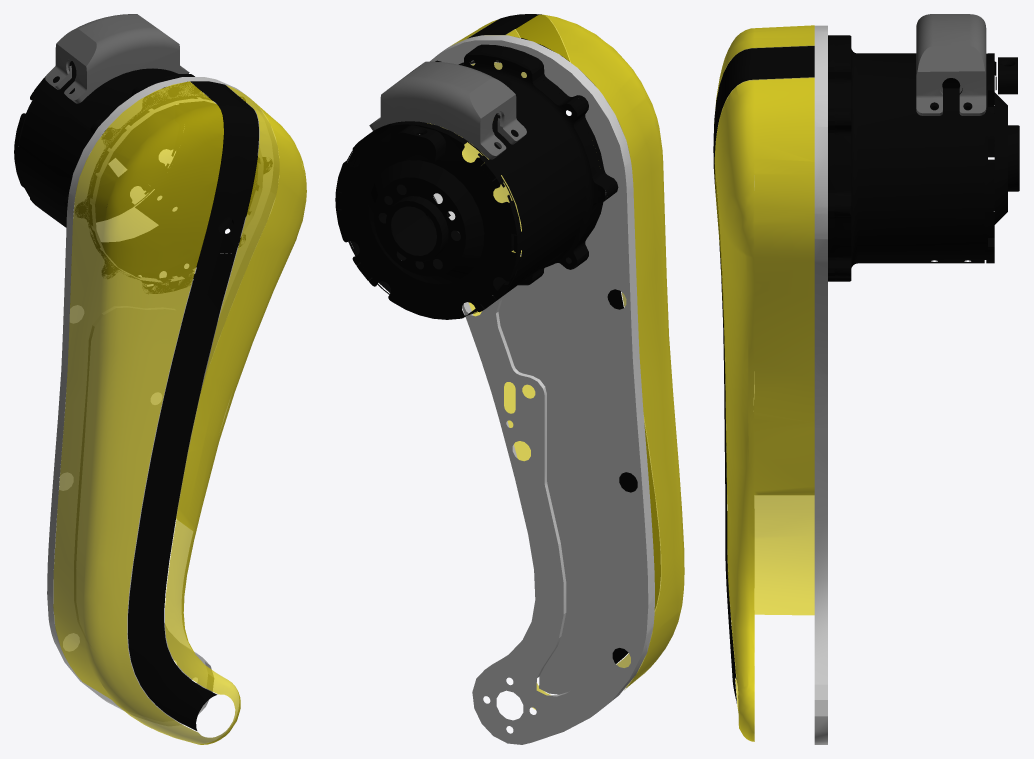
File: R_THIGH.dae
3 renders of one model, left to right at view 1: azimuth 30°, elevation 25°; view 2: azimuth 150°, elevation 25°; view 3: azimuth 270°, elevation 25°, orthographic. The views are drawn at different scales.
Visible parts, largest first — view 1: FR_THIGH_-_____________-1 (×12); view 2: FR_THIGH_-_____________-1 (×9); view 3: FR_THIGH_-_____________-1 (×9).
Part boxes in pixels (x1,y1,x2,y2): FR_THIGH_-_____________-1 (×12): (14, 14, 306, 744); FR_THIGH_-_____________-1 (×9): (335, 14, 684, 744); FR_THIGH_-_____________-1 (×9): (713, 14, 1019, 744).
Bounding box in the file's own units: 0.0856 × 0.0918 × 0.2367.
